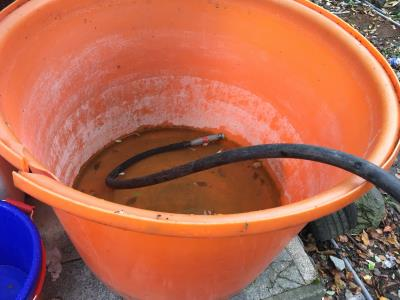bucket: (1, 1, 400, 299)
